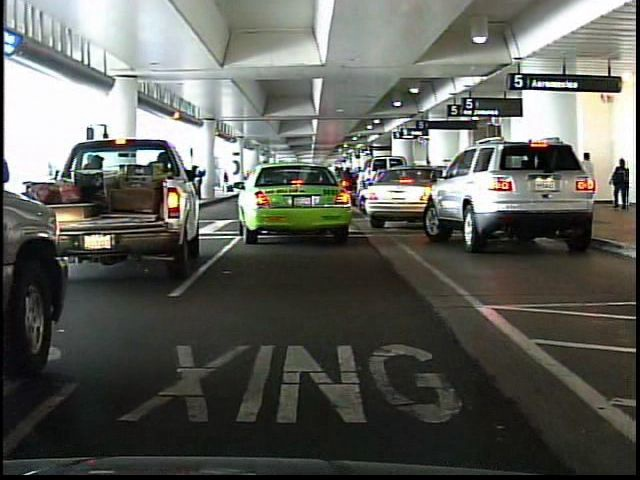person: (611, 158, 635, 215)
